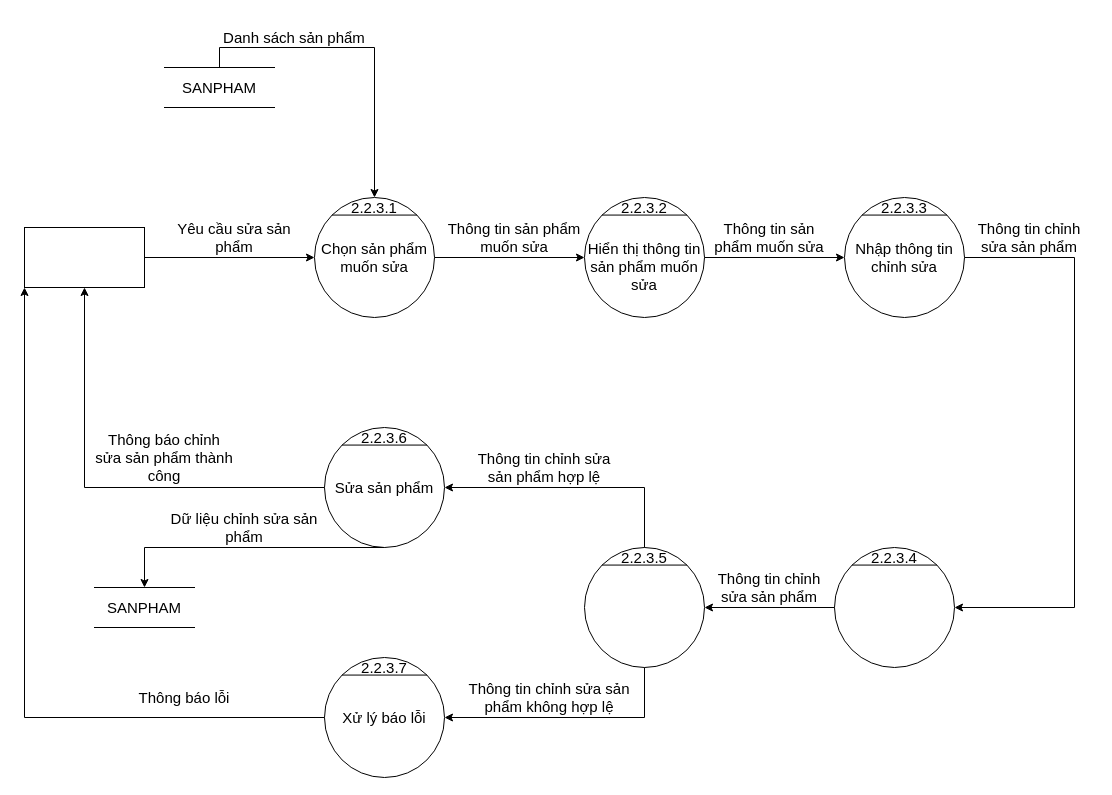
Image size: 1112x795. Some labels were removed from this diagram. The shapes that lost their labels are listed below. From the top down, each one's box as (x1, y1, x2, y2) in pixels, then its label:
(24, 226, 144, 288): Nhân viên quản lý
(584, 546, 704, 668): Kiểm tra thông tin chỉnh sửa
(834, 546, 954, 668): Tiếp nhận thông tin chỉnh sửa sản phẩm
